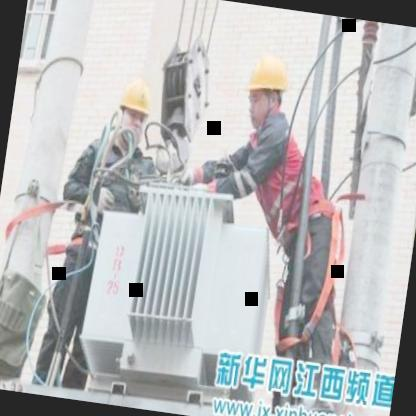helmet: (235, 46, 295, 133), (112, 71, 158, 142)
